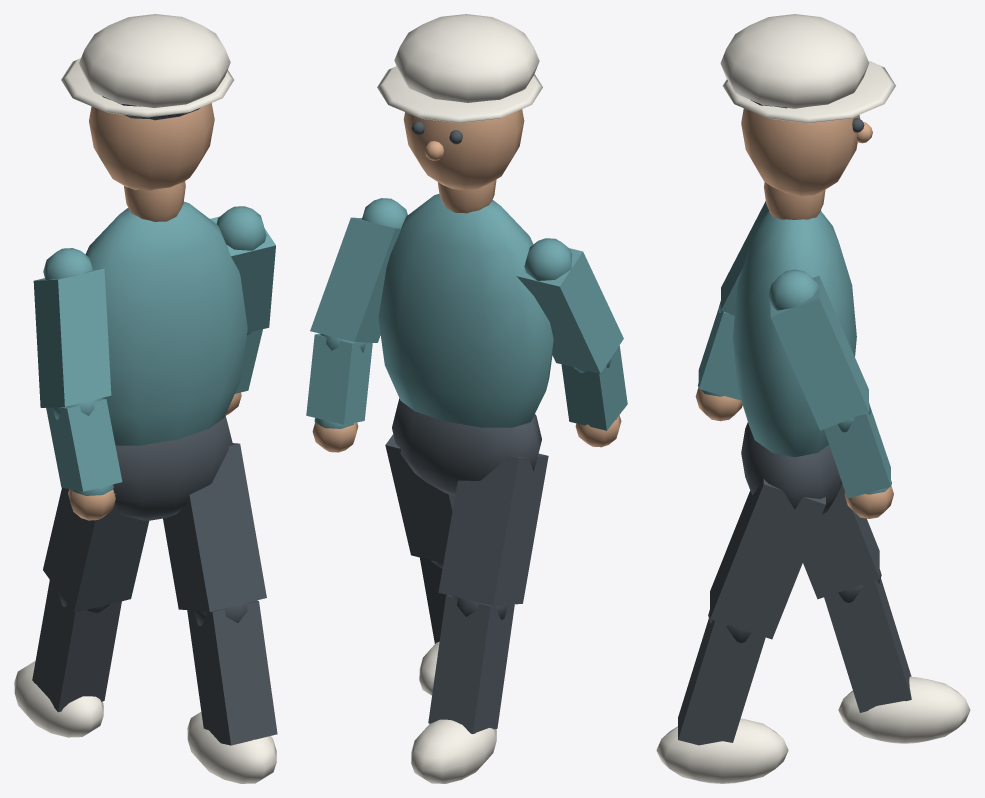
File: person-teknisi-step-b.glb
The picture shows the model from 3 angles, left to right: view 1: azimuth 30°, elevation 25°; view 2: azimuth 150°, elevation 25°; view 3: azimuth 270°, elevation 25°; orthographic projection. The views are drawn at different scales.
Parts seen in each view (by area): view 1: person-teknisi-step-b; view 2: person-teknisi-step-b; view 3: person-teknisi-step-b.
Part boxes in pixels (x1,y1,x2,y2): person-teknisi-step-b: [14, 14, 277, 783]; person-teknisi-step-b: [306, 14, 627, 783]; person-teknisi-step-b: [656, 14, 970, 783].
Size of the model in its own units: 0.71 by 1.96 by 0.76.
